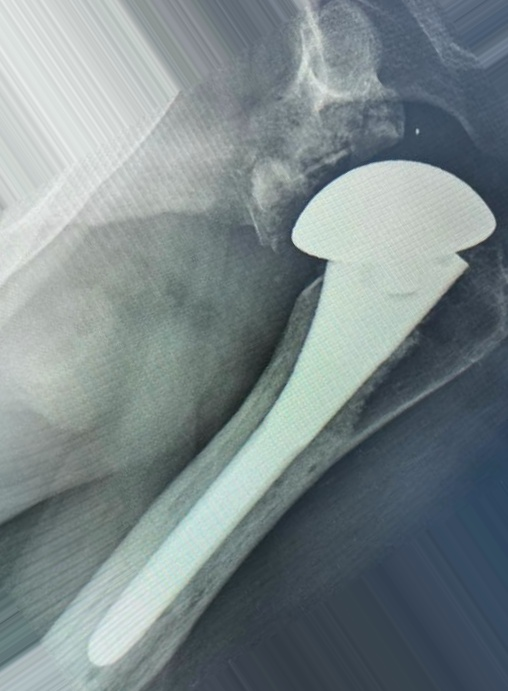Shoulder - Anotomical - Stryker: (281, 149, 504, 293)
